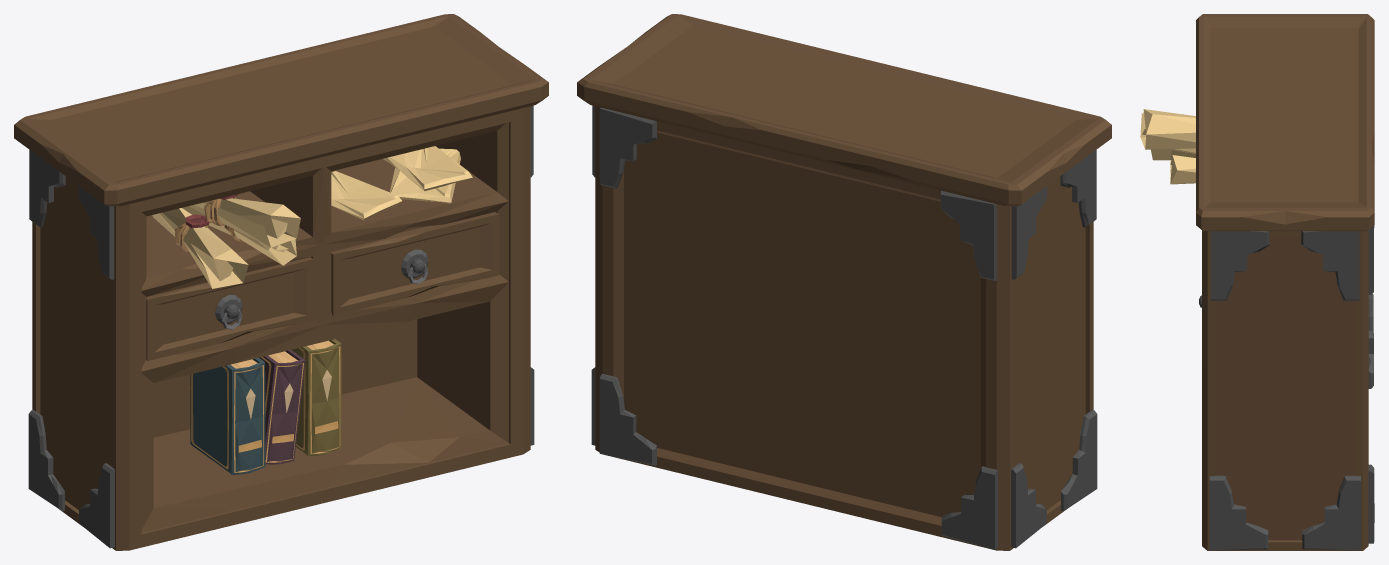
Rendered from Shelving_020.fbx.
3 views of the same model, side by side, from view 1: azimuth 30°, elevation 25°; view 2: azimuth 150°, elevation 25°; view 3: azimuth 270°, elevation 25° (orthographic). The views are drawn at different scales.
Parts seen in each view (by area): view 1: Shelving_020; view 2: Shelving_020; view 3: Shelving_020.
Part boxes in pixels (x1,y1,x2,y2): Shelving_020: [14, 14, 548, 550]; Shelving_020: [577, 14, 1111, 550]; Shelving_020: [1140, 14, 1374, 550].
Bounding box in the file's own units: 1.15 × 0.9119 × 0.5619.
